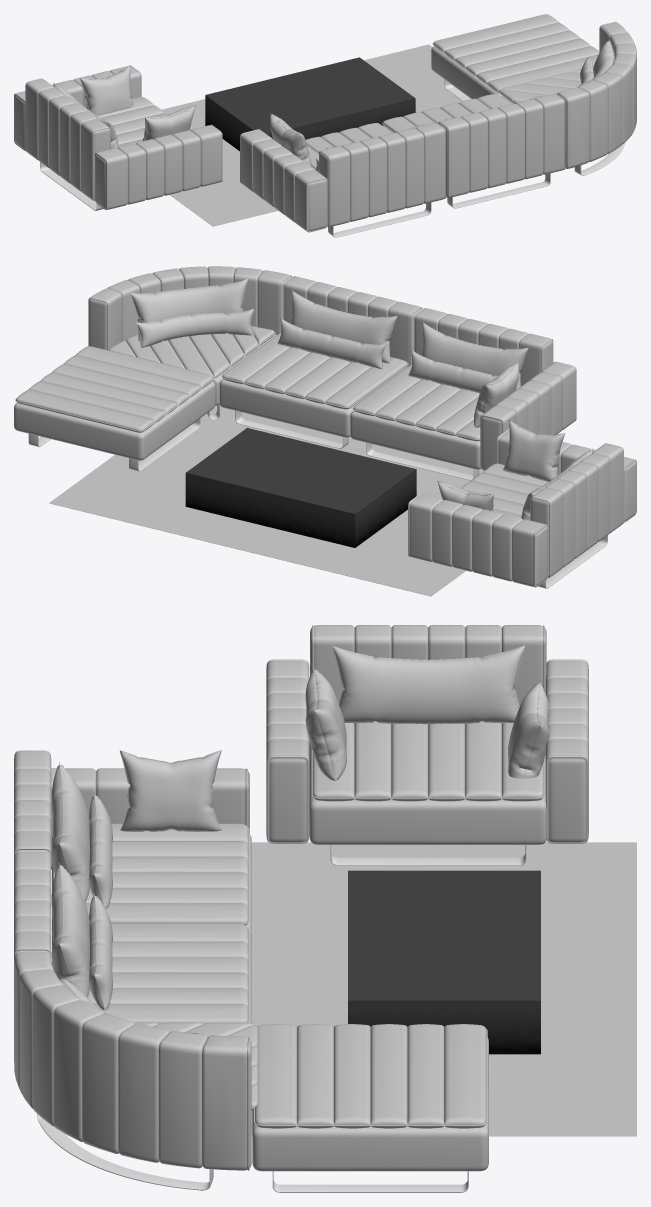
File: sofa.gltf
3 views of the same model, one above another, from view 1: azimuth 30°, elevation 25°; view 2: azimuth 150°, elevation 25°; view 3: azimuth 270°, elevation 25° (orthographic). The views are drawn at different scales.
Visible parts, largest first — view 1: Box040.003_Mesh.004, Box040.002_Mesh.003, Sofa Cushion, Box040_Mesh.042, Cube.003, Box044.001_Mesh.001, Box040.001_Mesh.002, Box040.004_Mesh.009; view 2: Sofa Cushion, Box040.003_Mesh.004, Box040.002_Mesh.003, Cube.003, Box044.001_Mesh.001, Box040_Mesh.042, Box040.001_Mesh.002, Box040.004_Mesh.009; view 3: Sofa Cushion, Box040.003_Mesh.004, Box044.001_Mesh.001, Box040.001_Mesh.002, Cube.003, Box040.002_Mesh.003, Box040_Mesh.042, Box040.004_Mesh.009.
Boxes of the visible parts, x1=… form: Box040.003_Mesh.004: x1=14, y1=65, x2=222, y2=210; Box040.002_Mesh.003: x1=240, y1=122, x2=445, y2=237; Sofa Cushion: x1=53, y1=39, x2=614, y2=226; Box040_Mesh.042: x1=382, y1=93, x2=565, y2=208; Cube.003: x1=205, y1=57, x2=415, y2=151; Box044.001_Mesh.001: x1=431, y1=14, x2=599, y2=100; Box040.001_Mesh.002: x1=502, y1=21, x2=636, y2=175; Box040.004_Mesh.009: x1=498, y1=66, x2=593, y2=103; Sofa Cushion: x1=49, y1=278, x2=592, y2=596; Box040.003_Mesh.004: x1=408, y1=429, x2=636, y2=588; Box040.002_Mesh.003: x1=350, y1=308, x2=576, y2=480; Cube.003: x1=185, y1=428, x2=416, y2=547; Box044.001_Mesh.001: x1=14, y1=346, x2=215, y2=471; Box040_Mesh.042: x1=219, y1=276, x2=422, y2=448; Box040.001_Mesh.002: x1=88, y1=266, x2=291, y2=420; Box040.004_Mesh.009: x1=108, y1=326, x2=275, y2=377; Sofa Cushion: x1=51, y1=645, x2=636, y2=1136; Box040.003_Mesh.004: x1=266, y1=625, x2=588, y2=865; Box044.001_Mesh.001: x1=252, y1=1024, x2=488, y2=1192; Box040.001_Mesh.002: x1=14, y1=951, x2=251, y2=1190; Cube.003: x1=348, y1=870, x2=540, y2=1054; Box040.002_Mesh.003: x1=14, y1=750, x2=251, y2=938; Box040_Mesh.042: x1=14, y1=851, x2=251, y2=1062; Box040.004_Mesh.009: x1=135, y1=1022, x2=257, y2=1110.
Bounding box in the file's own units: 8.5 × 1.41 × 5.24.
